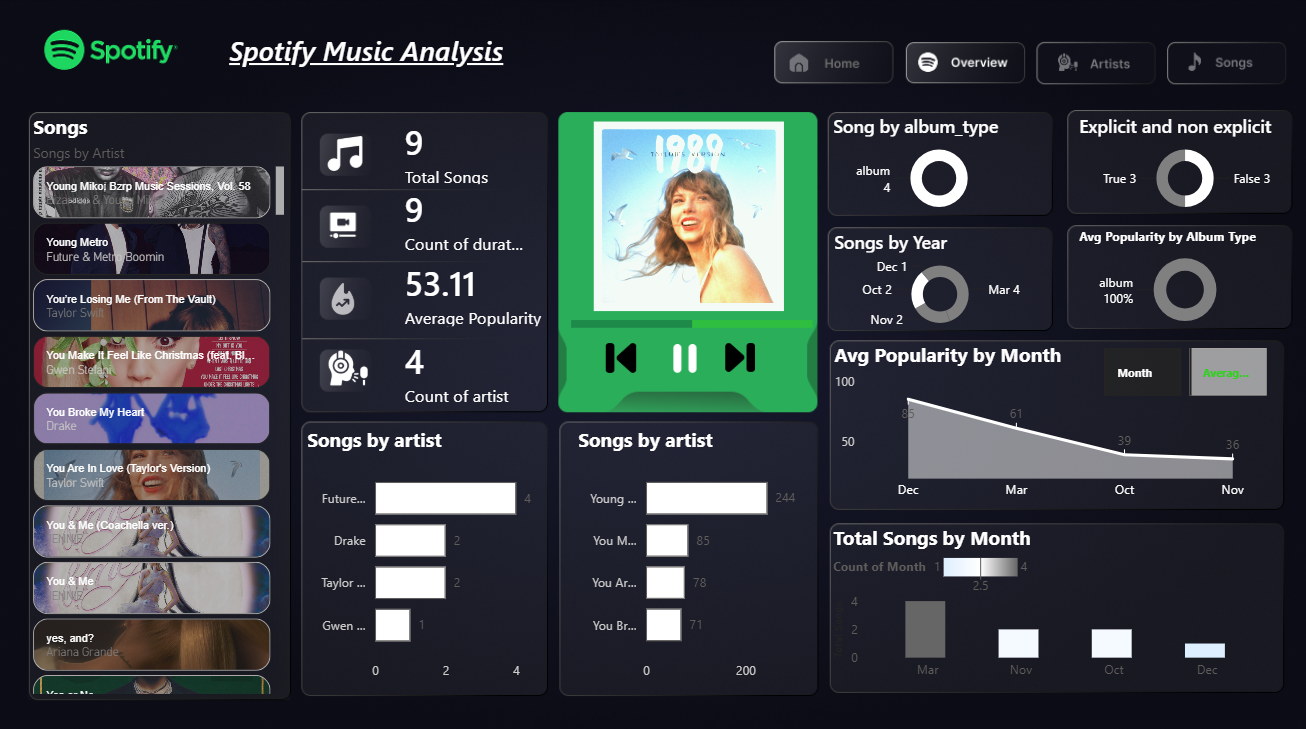

The dashboard page shown, as its layout file describes it:
{"tool":"powerbi","page":{"name":"Page 1","canvas":[1280,720],"ordinal":0},"visuals":[{"type":"clusteredBarChart","title":"Songs by artist","fields":{"Y":["Top-50-World.Total Songs"],"Category":["Top-50-World.artist"]},"box":[296.9,416.7,232.3,256.2],"z":0},{"type":"clusteredBarChart","title":"Songs by artist","fields":{"Y":["Sum(Top-50-World.popularity)"],"Category":["Top-50-World.song"]},"box":[560,416,232,256],"z":1000},{"type":"areaChart","title":"Avg Popularity by Month","fields":{"Category":["Top-50-World.Month"],"Y":["Top-50-World.Average Popularity"]},"box":[809.4,333.7,439.7,162.9],"z":2000},{"type":"advancedSlicerVisual","fields":{"Values":["Slicer_option.Slicer_option"]},"box":[1072,336,168,56],"z":3000},{"type":"donutChart","title":" Song by album_type","fields":{"Category":["Top-50-World.album_type"],"Y":["Count(Top-50-World.song)"]},"box":[808,112,216,104],"z":4000},{"type":"donutChart","title":"Explicit and non explicit","fields":{"Y":["Top-50-World.Non Explicit Songs"],"Category":["Top-50-World.is_explicit"]},"box":[1048,112,216,104],"z":5000},{"type":"donutChart","title":"Songs by Year","fields":{"Y":["CountNonNull(Top-50-World.album_type)"],"Category":["Top-50-World.Month"]},"box":[809.6,224.7,216,104],"z":6000},{"type":"donutChart","title":"Avg Popularity by Album Type ","fields":{"Category":["Top-50-World.album_type"],"Y":["Top-50-World.Average Popularity"]},"box":[1048,224,216,104],"z":7000},{"type":"clusteredColumnChart","fields":{"Y":["Top-50-World.Total Songs"],"Category":["Top-50-World.Month"]},"box":[808,512,432,160],"z":8000},{"type":"cardVisual","title":"Songs by Year","fields":{"Data":["CountNonNull(Top-50-World.duration_ms)"]},"box":[368,168,176,96],"z":9000},{"type":"cardVisual","fields":{"Data":["Count(Top-50-World.artist)"]},"box":[368,317.2,161.3,94.8],"z":9000,"group":"g1"},{"type":"cardVisual","title":"Songs by Year","fields":{"Data":["Top-50-World.Average Popularity"]},"box":[368,240,240,96],"z":10000},{"type":"group","id":"g1","title":"Group 1","box":[368,104,192,312],"z":11000},{"type":"cardVisual","fields":{"Data":["Top-50-World.Total Songs"]},"box":[368,104,192,94.8],"z":11000,"group":"g1"},{"type":"image","box":[301.4,277.1,80,31.4],"z":12000},{"type":"image","box":[301.4,341.4,80,37.1],"z":13000},{"type":"image","box":[301.4,134.3,74.3,34.3],"z":14000},{"type":"image","box":[301.4,205.7,70,30],"z":15000},{"type":"advancedSlicerVisual","title":"Songs ","fields":{"Values":["Top-50-World.song"],"Label":["Min(Top-50-World.song)"]},"box":[30,111.9,254.8,570.6],"z":16000},{"type":"cardVisual","fields":{"Data":["Min(Top-50-World.album_cover_url)"]},"box":[482.9,112.1,380,201.4],"z":17000},{"type":"hundredPercentStackedBarChart","fields":{"Y":["Top-50-World.Average Popularity","Avg(Top-50-World.popularity)"]},"box":[553.1,280.8,245.4,65.4],"z":18000},{"type":"image","box":[699.2,333.8,46.9,32.3],"z":19000},{"type":"image","box":[572.3,333.8,70,33.1],"z":20000},{"type":"image","box":[635.4,336.2,67.7,28.5],"z":21000},{"type":"shape","box":[547.6,111.9,255.8,291.8],"z":22000},{"type":"textbox","box":[220.8,27,396.7,64],"z":23000}]}

Visuals, with their boxes in screenshot pixels (x1, y1, x2, y2), scaled from the page's 1280x720 canvas onto the 1306x729 screenshot:
"Songs by artist" clusteredBarChart: (303,422,540,681)
"Songs by artist" clusteredBarChart: (571,421,808,680)
"Avg Popularity by Month" areaChart: (826,338,1274,503)
advancedSlicerVisual - Slicer_option.Slicer_option: (1094,340,1265,397)
" Song by album_type" donutChart: (824,113,1045,219)
"Explicit and non explicit" donutChart: (1069,113,1290,219)
"Songs by Year" donutChart: (826,228,1046,333)
"Avg Popularity by Album Type " donutChart: (1069,227,1290,332)
clusteredColumnChart - Top-50-World.Total Songs x Top-50-World.Month: (824,518,1265,680)
"Songs by Year" cardVisual: (375,170,555,267)
cardVisual - Count(Top-50-World.artist): (375,321,540,417)
"Songs by Year" cardVisual: (375,243,620,340)
"Group 1" group: (375,105,571,421)
cardVisual - Top-50-World.Total Songs: (375,105,571,201)
image: (308,281,389,312)
image: (308,346,389,383)
image: (308,136,383,171)
image: (308,208,379,239)
"Songs " advancedSlicerVisual: (31,113,291,691)
cardVisual - Min(Top-50-World.album_cover_url): (493,114,880,317)
hundredPercentStackedBarChart - Top-50-World.Average Popularity x Avg(Top-50-World.popularity): (564,284,815,351)
image: (713,338,761,371)
image: (584,338,655,371)
image: (648,340,717,369)
shape: (559,113,820,409)
textbox: (225,27,630,92)
